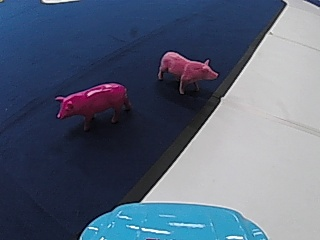pig: (51, 78, 131, 129), (156, 48, 218, 94)
